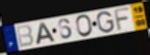6: (58, 19, 74, 41)
A: (35, 22, 56, 46)
B: (15, 24, 35, 49)
F: (113, 7, 132, 32)
G: (96, 10, 116, 34)
O: (75, 14, 94, 38)
